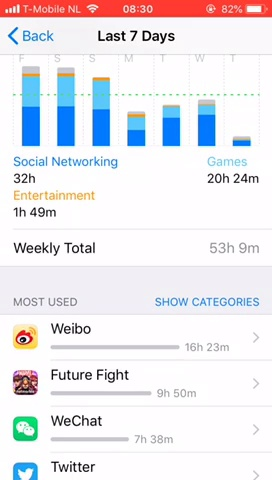use_over: (8, 155, 263, 258)
week: (92, 23, 185, 46)
